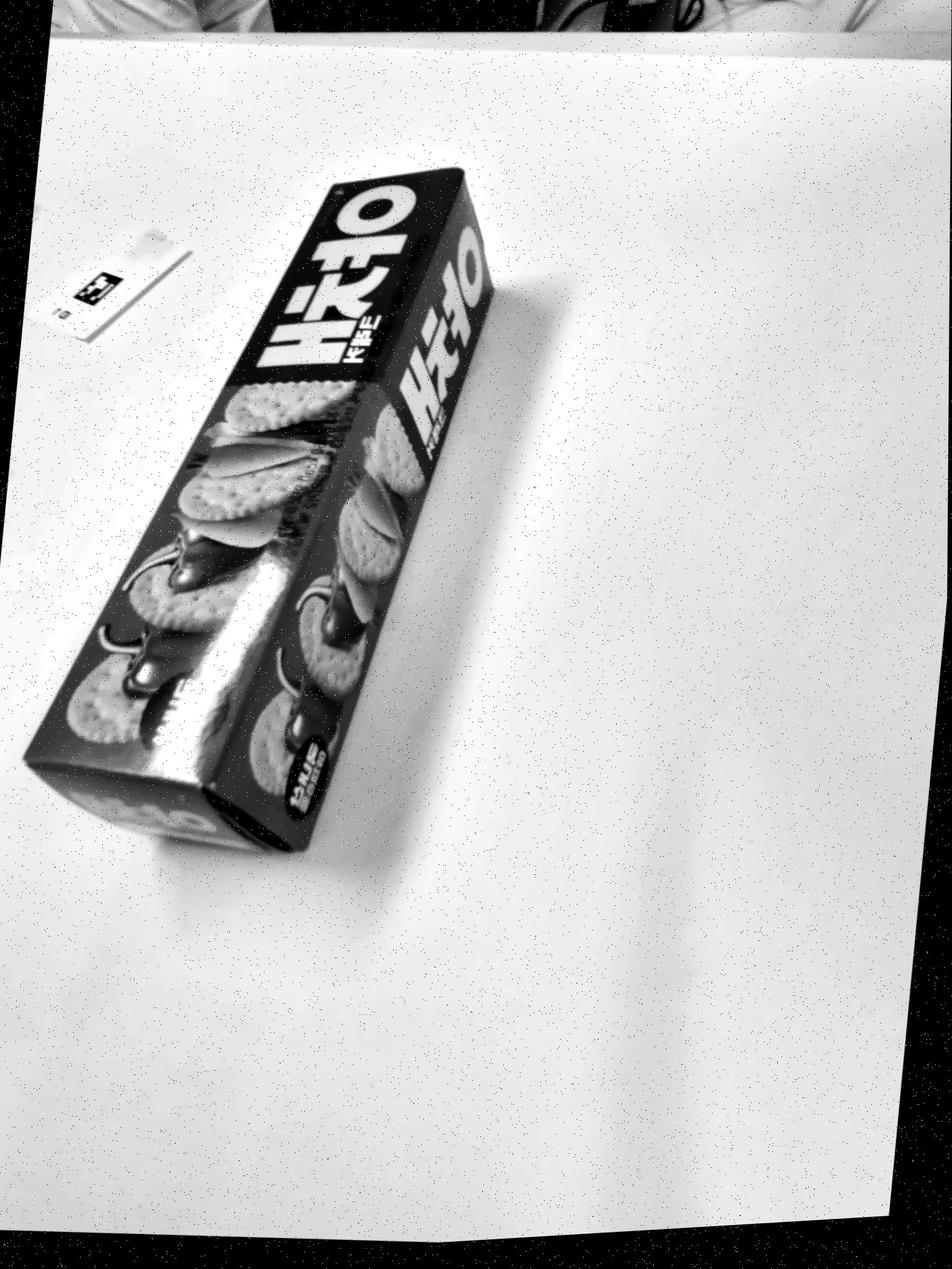cracker_vege: (25, 168, 493, 851)
